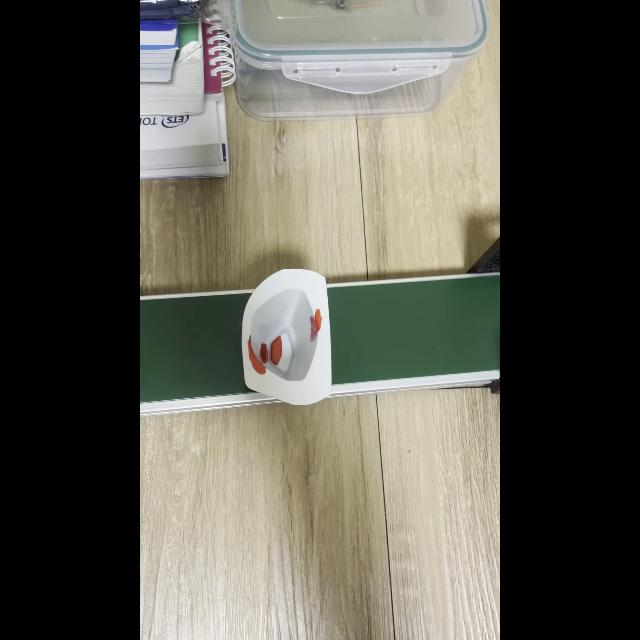dirty: (242, 291, 332, 397)
